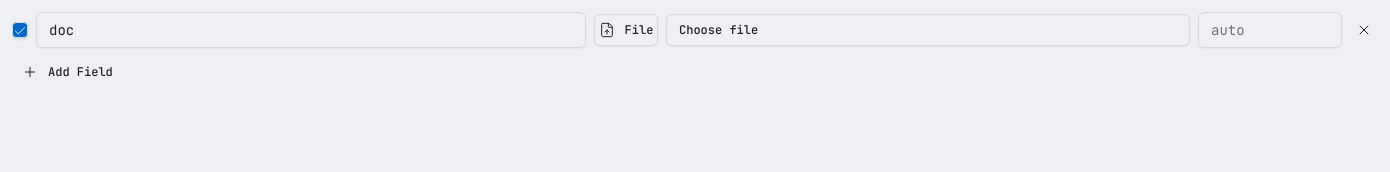
Test: FormDataEditor › stores nothing and explains when the file is outside the workspace
Click the button with aria-label "Choose file for row 1". click: (719, 30)
box: [666,14,1190,46]
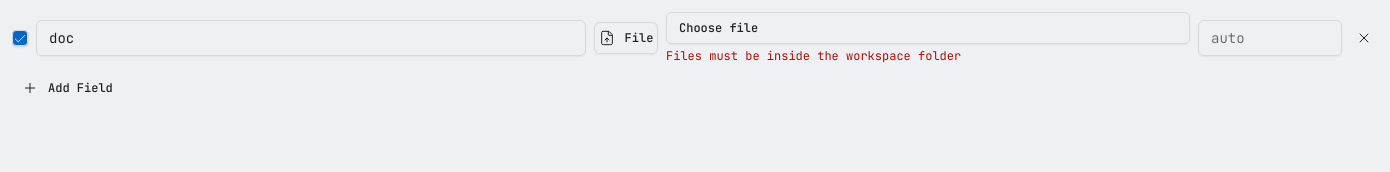
Now the text "Files must be inside the workspace folder" is shown, box [666,48,961,64]
